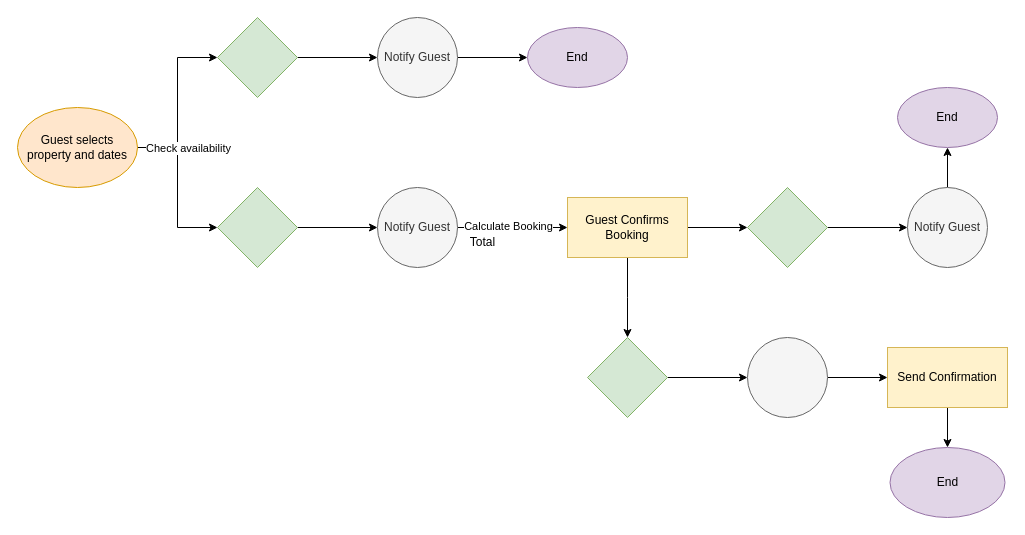
Image size: 1025x535. Some labels were removed from this diagram. The centre of each missing label's shape, as x and y in pixels:
"Available" belongs at point 257,227.
"Create Booking Record" belongs at point 787,377.
"Payment Fails" belongs at point 787,227.
"Payment Succeeds" belongs at point 627,377.
"Unavailable" belongs at point 257,57.
